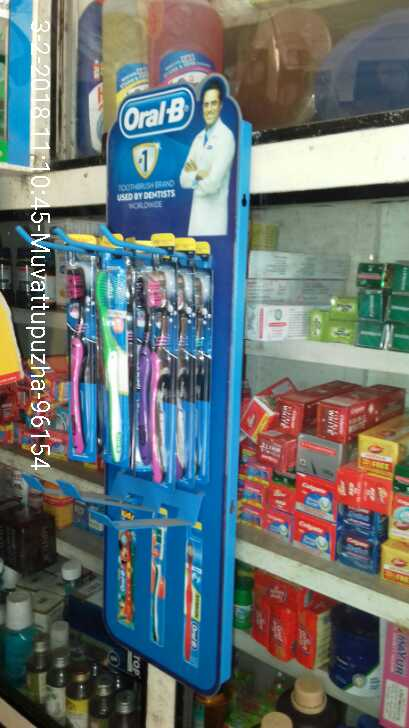oralb: (140, 258, 208, 483), (95, 268, 131, 470), (61, 262, 95, 453)
